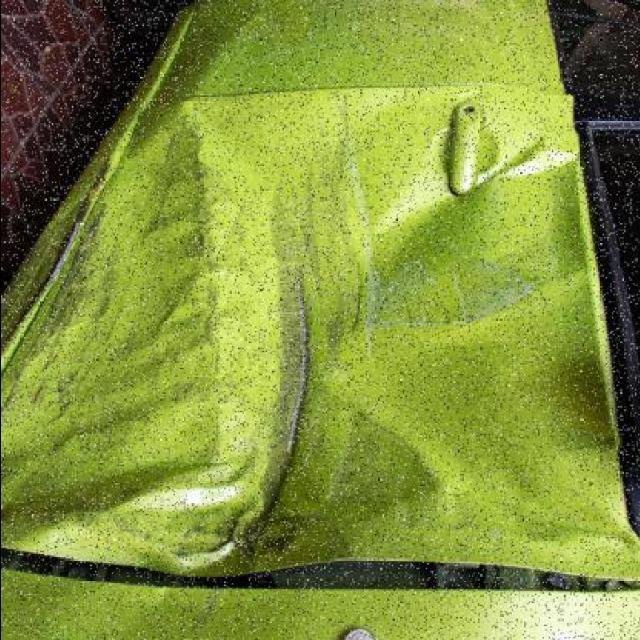doorouter-dent: (10, 93, 620, 602)
